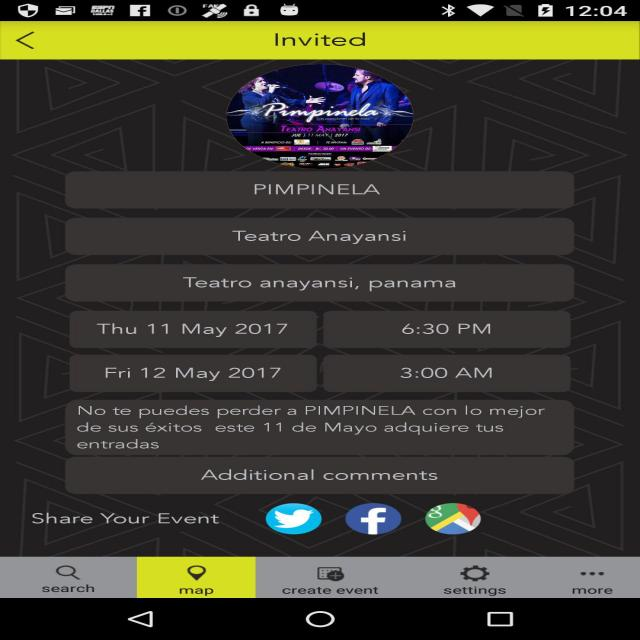button: (6, 501, 640, 640), (194, 61, 483, 163)
